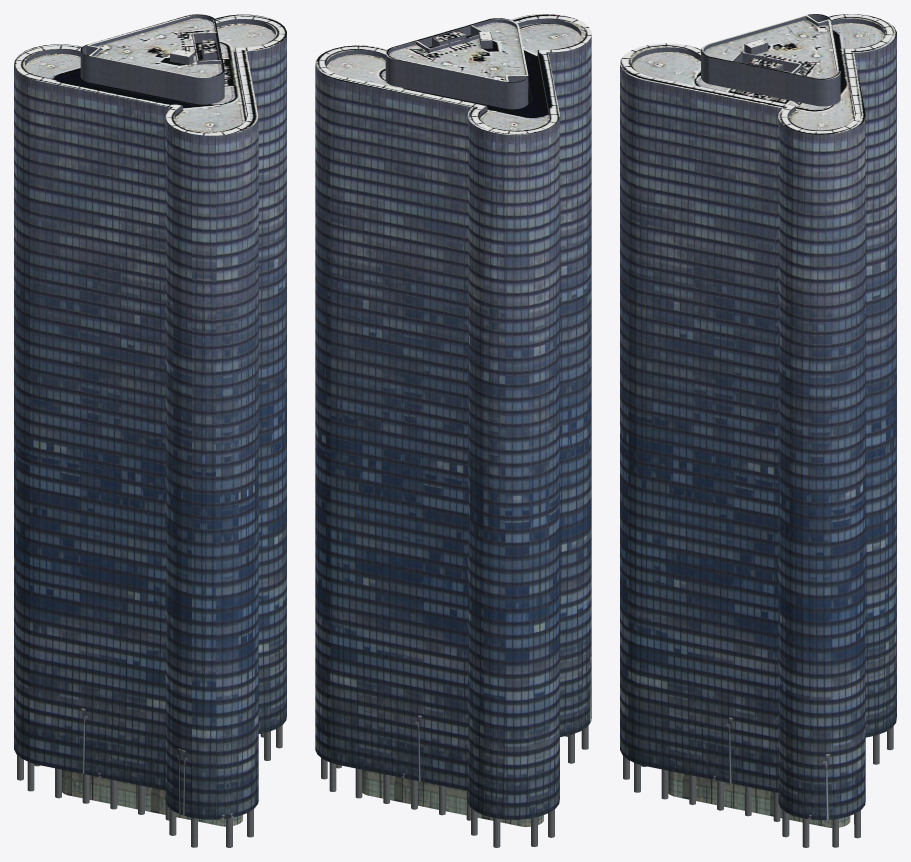
The model's file is Unbenannt.fbx.
3 renders of one model, left to right at view 1: azimuth 30°, elevation 25°; view 2: azimuth 150°, elevation 25°; view 3: azimuth 270°, elevation 25°, orthographic.
Visible parts, largest first — view 1: Model; view 2: Model; view 3: Model.
Part boxes in pixels (box(x1,y1,x2,y2)): Model: box(14, 14, 286, 847); Model: box(315, 14, 591, 847); Model: box(620, 14, 896, 847).
Bounding box in the file's own units: 58.88 × 169 × 57.07.
